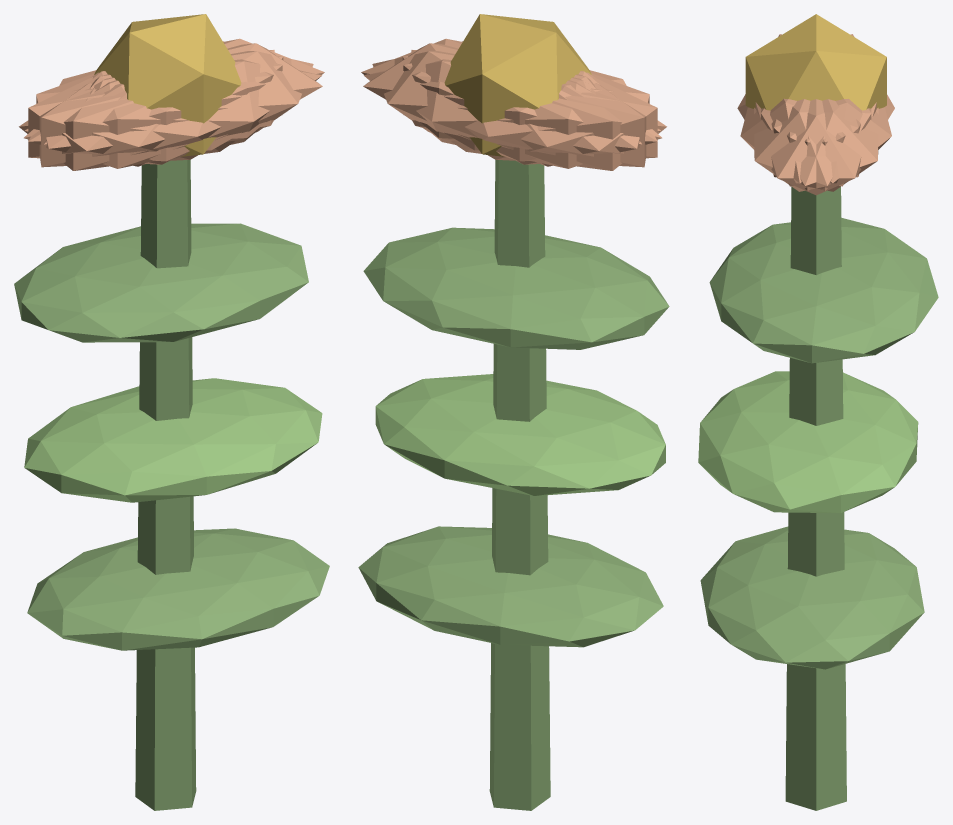
The model's file is tinospora-crispa.glb.
The picture shows the model from 3 angles, left to right: view 1: azimuth 30°, elevation 25°; view 2: azimuth 150°, elevation 25°; view 3: azimuth 270°, elevation 25°; orthographic projection.
Visible parts, largest first — view 1: leaf1, leaf0, leaf2, stem, center, petal1, petal6, petal2, petal5, petal7, petal0, petal4 (+2 smaller); view 2: leaf2, leaf0, leaf1, stem, center, petal8, petal3, petal7, petal4, petal2, petal0, petal5 (+2 smaller); view 3: leaf2, leaf0, leaf1, stem, center, petal0, petal4, petal5, petal1, petal8.
Part boxes in pixels (box(x1,y1,x2,y2)): leaf1: box(24, 378, 322, 502); leaf0: box(27, 528, 329, 650); leaf2: box(14, 223, 308, 342); stem: box(135, 159, 196, 810); center: box(94, 14, 241, 156); petal1: box(24, 59, 321, 168); petal6: box(19, 72, 234, 170); petal2: box(39, 50, 274, 167); petal5: box(44, 51, 313, 161); petal7: box(28, 56, 283, 164); petal0: box(94, 43, 322, 150); petal4: box(25, 38, 324, 141); leaf2: box(363, 227, 669, 349); leaf0: box(358, 526, 663, 647); leaf1: box(375, 374, 665, 495); stem: box(489, 159, 550, 810); center: box(444, 14, 591, 156); petal8: box(364, 59, 661, 168); petal3: box(451, 72, 666, 170); petal7: box(411, 50, 646, 167); petal4: box(372, 51, 641, 161); petal2: box(402, 56, 657, 164); petal0: box(363, 43, 591, 150); petal5: box(361, 38, 660, 141); leaf2: box(709, 217, 938, 363); leaf0: box(700, 526, 924, 669); leaf1: box(698, 371, 918, 513); stem: box(785, 186, 846, 810); center: box(745, 14, 886, 110); petal0: box(755, 99, 876, 195); petal4: box(761, 99, 878, 191); petal5: box(754, 99, 871, 191); petal1: box(740, 98, 860, 183); petal8: box(771, 98, 891, 183).
Bounding box in the file's own units: 0.1452 × 0.3661 × 0.1043.
